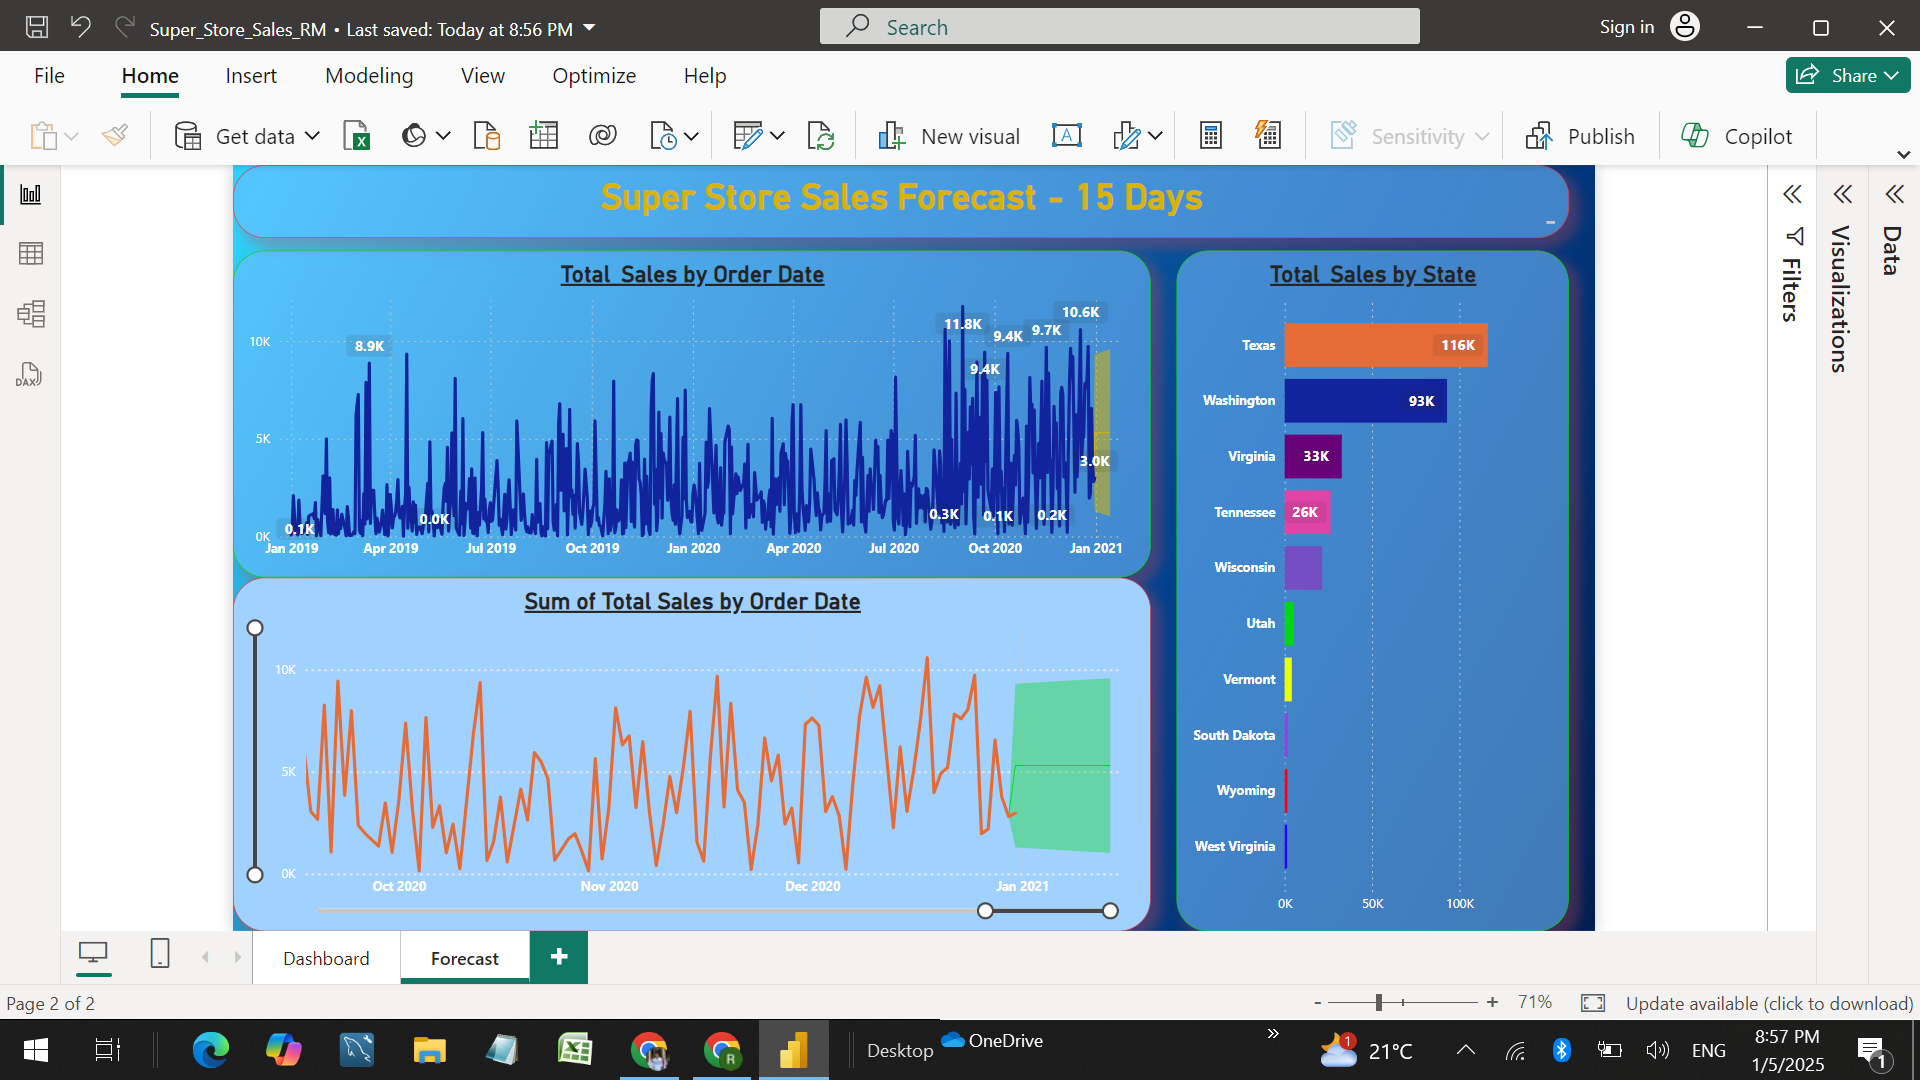

The page's visual inventory and layout, read from the dashboard file:
{"tool":"powerbi","page":{"name":"Forecast","canvas":[1280,720],"ordinal":1},"visuals":[{"type":"lineChart","fields":{"Y":["Measures (2).Total_Sales"],"Category":["Super_Store_Sales.Order Date"]},"box":[0,80,862.9,307.1],"z":0},{"type":"lineChart","fields":{"Y":["Sum(Super_Store_Forecast.Total Sales)"],"Category":["Super_Store_Forecast.Order Date"]},"box":[0,387.1,862.9,332.9],"z":1000},{"type":"clusteredBarChart","fields":{"Category":["Super_Store_Sales.State"],"Y":["Measures (2).Total_Sales"]},"box":[887.1,80,368.6,640],"z":2000},{"type":"textbox","title":"Super Store Sales Forecast - 15 Days","box":[0,0,1255.7,68.6],"z":3000}]}

Visuals, with their boxes on the page's 1280x720 design canvas (x1, y1, x2, y2). These are canvas units, not pixel positions in the 1920x1080 screenshot, which may show the page scaled, cropped or inside an application window:
lineChart - Measures (2).Total_Sales x Super_Store_Sales.Order Date: 0/80/863/387
lineChart - Sum(Super_Store_Forecast.Total Sales) x Super_Store_Forecast.Order Date: 0/387/863/720
clusteredBarChart - Super_Store_Sales.State x Measures (2).Total_Sales: 887/80/1256/720
"Super Store Sales Forecast - 15 Days" textbox: 0/0/1256/69
